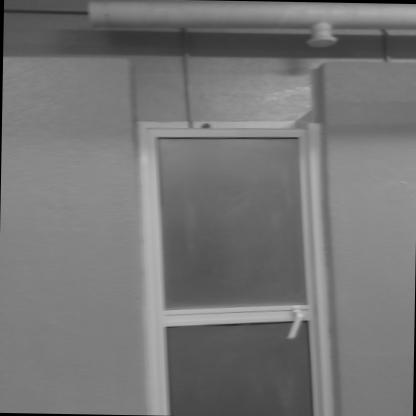closed: (120, 90, 348, 416)
